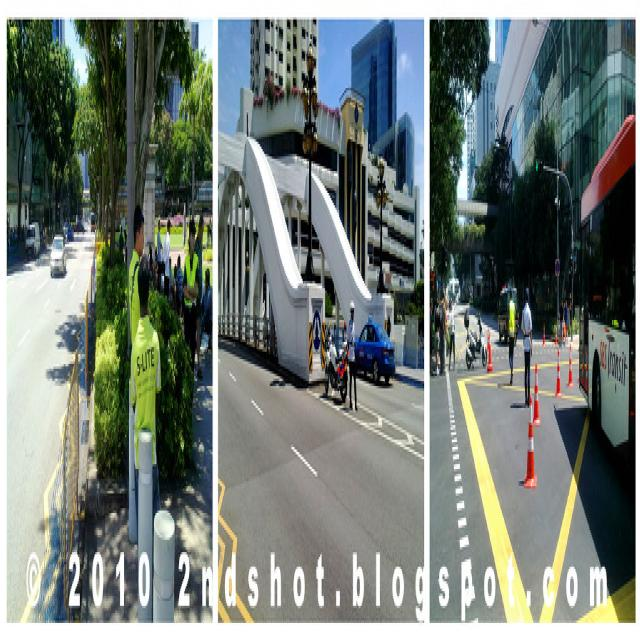Buses: (581, 108, 636, 486)
Motorbikes: (321, 330, 349, 400), (464, 310, 487, 372)
Passenger Car: (360, 313, 397, 391), (49, 232, 67, 283)
Pedestrians: (521, 283, 533, 408), (347, 296, 360, 410), (508, 290, 517, 396)
